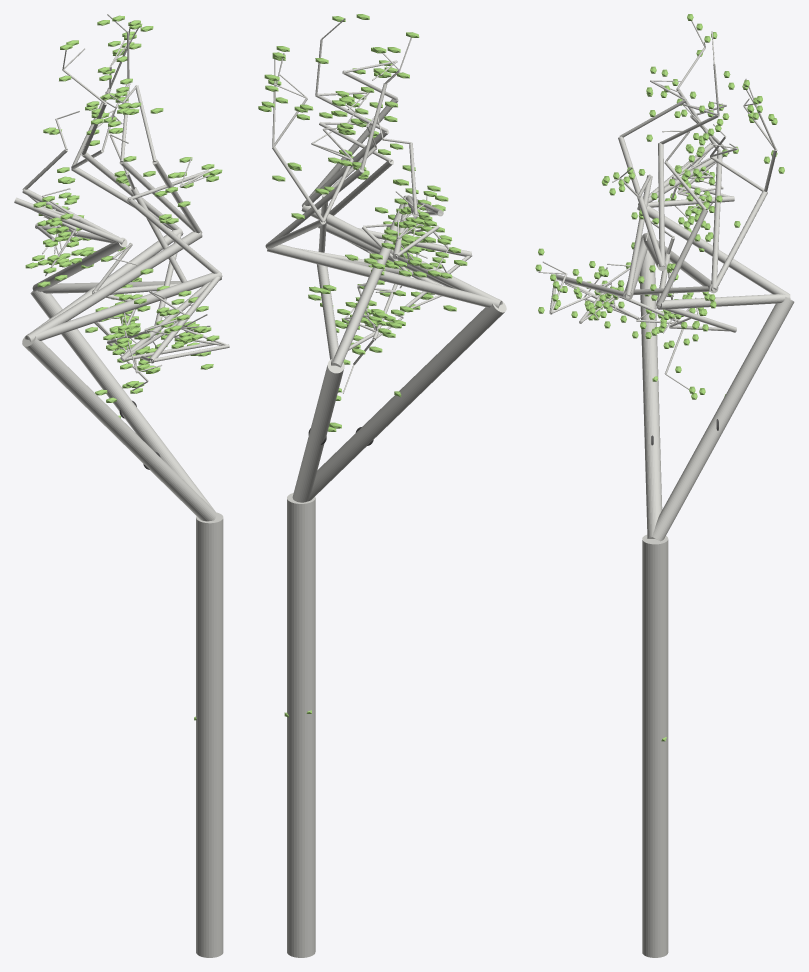
3 renders of one model, left to right at view 1: azimuth 30°, elevation 25°; view 2: azimuth 150°, elevation 25°; view 3: azimuth 270°, elevation 25°, orthographic. The views are drawn at different scales.
Parts seen in each view (by area): view 1: BirchBranch_D0, BirchBranch_D1.001, BirchBranch_D1, BirchBranch_D2.002, BirchBranch_D2.003, BirchBranch_D2.004, BirchBranch_D2, BirchBranch_D3.006, BirchBranch_D3.002, BirchBranch_D2.001, BirchBranch_D3.008, BirchBranch_D3.013 (+4 smaller); view 2: BirchBranch_D0, BirchBranch_D1.001, BirchBranch_D1, BirchBranch_D2.004, BirchBranch_D2, BirchBranch_D2.003, BirchBranch_D2.001, BirchBranch_D3.013, BirchBranch_D2.002, BirchBranch_D3.009, BirchBranch_D3.006; view 3: BirchBranch_D0, BirchBranch_D1, BirchBranch_D1.001, BirchBranch_D2, BirchBranch_D2.001, BirchBranch_D3.013, BirchBranch_D3.009, BirchBranch_D3.010, BirchBranch_D3.011, BirchBranch_D3.003, BirchBranch_D3.006.
Part boxes in pixels (x1,y1,x2,y2): BirchBranch_D0: [196, 512, 223, 957]; BirchBranch_D1.001: [22, 333, 216, 521]; BirchBranch_D1: [30, 290, 215, 511]; BirchBranch_D2.002: [29, 272, 221, 341]; BirchBranch_D2.003: [27, 231, 202, 339]; BirchBranch_D2.004: [25, 227, 183, 339]; BirchBranch_D2: [32, 237, 127, 291]; BirchBranch_D3.006: [127, 197, 221, 274]; BirchBranch_D3.002: [14, 197, 123, 244]; BirchBranch_D2.001: [42, 281, 181, 293]; BirchBranch_D3.008: [149, 274, 222, 363]; BirchBranch_D3.013: [81, 152, 178, 229]; BirchBranch_D0: [287, 493, 315, 957]; BirchBranch_D1.001: [307, 298, 506, 501]; BirchBranch_D1: [292, 359, 344, 502]; BirchBranch_D2.004: [267, 244, 499, 308]; BirchBranch_D2: [332, 195, 407, 367]; BirchBranch_D2.003: [301, 204, 501, 304]; BirchBranch_D2.001: [316, 264, 338, 365]; BirchBranch_D3.013: [267, 167, 364, 243]; BirchBranch_D2.002: [318, 224, 502, 304]; BirchBranch_D3.009: [303, 99, 398, 203]; BirchBranch_D3.006: [329, 158, 393, 215]; BirchBranch_D0: [642, 535, 668, 957]; BirchBranch_D1: [652, 297, 794, 541]; BirchBranch_D1.001: [639, 236, 662, 538]; BirchBranch_D2: [637, 205, 790, 295]; BirchBranch_D2.001: [656, 294, 790, 309]; BirchBranch_D3.013: [711, 151, 722, 288]; BirchBranch_D3.009: [618, 136, 663, 266]; BirchBranch_D3.010: [658, 143, 664, 266]; BirchBranch_D3.011: [714, 191, 767, 289]; BirchBranch_D3.003: [657, 209, 707, 305]; BirchBranch_D3.006: [625, 175, 652, 295].
Size of the model in its own units: 3.41 by 15.06 by 3.97.
